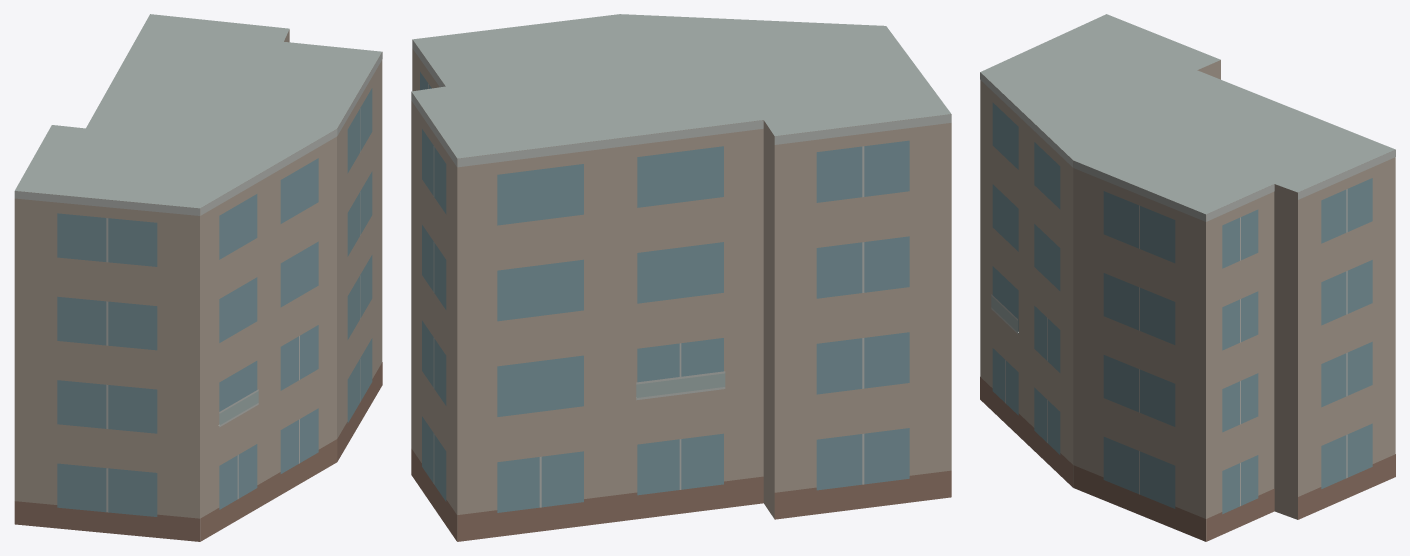
Rendered from survey-upis-32460260.glb.
3 renders of one model, left to right at view 1: azimuth 30°, elevation 25°; view 2: azimuth 150°, elevation 25°; view 3: azimuth 270°, elevation 25°, orthographic. The views are drawn at different scales.
Parts seen in each view (by area): view 1: survey-upis-32460260.tmp; view 2: survey-upis-32460260.tmp; view 3: survey-upis-32460260.tmp.
Boxes of the visible parts, <box> form: survey-upis-32460260.tmp: <box>14,14,382,541</box>; survey-upis-32460260.tmp: <box>411,14,951,541</box>; survey-upis-32460260.tmp: <box>980,14,1395,541</box>.
Size of the model in its own units: 13.92 by 10.6 by 12.2.
